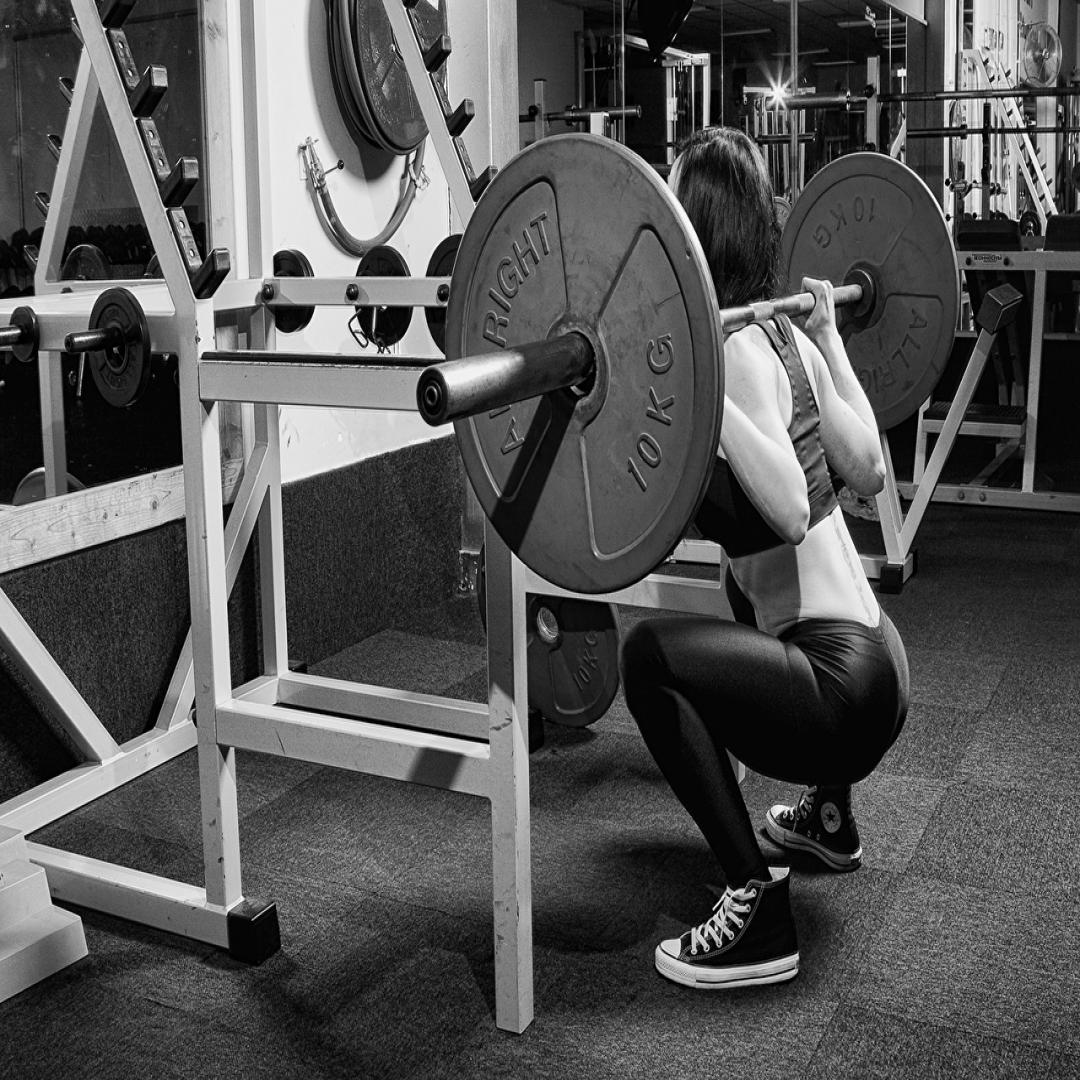Bar: (414, 365, 450, 429)
Barbell: (446, 132, 726, 593)
